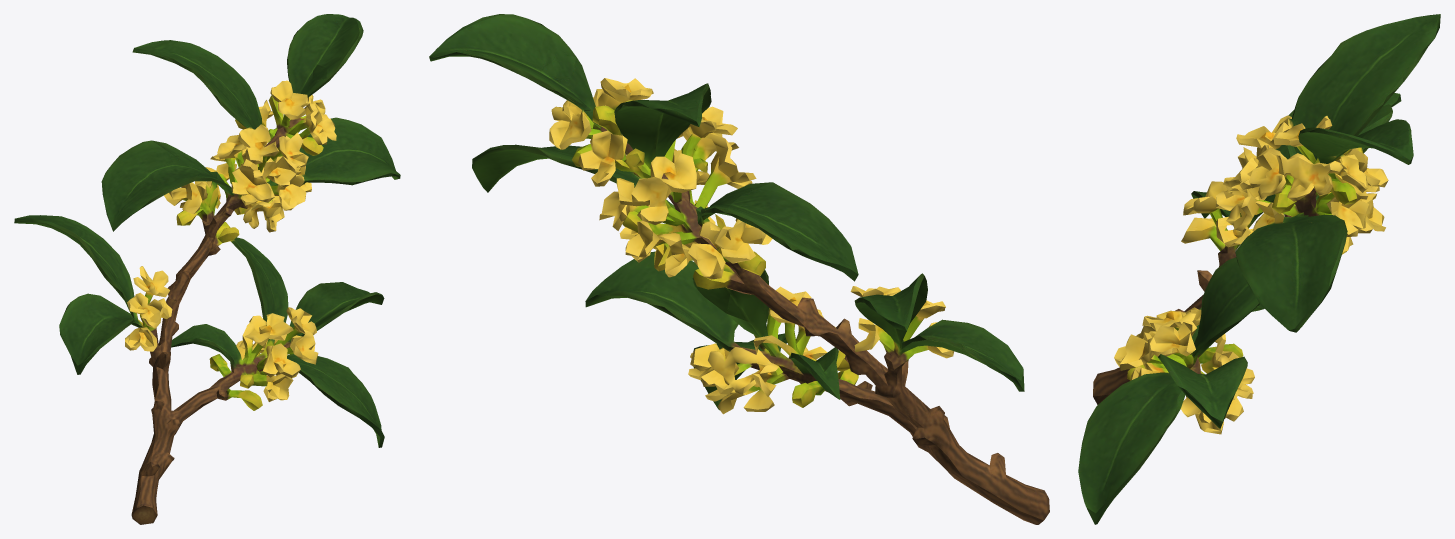
File: branch.glb
3 views of the same model, side by side, from view 1: azimuth 30°, elevation 25°; view 2: azimuth 150°, elevation 25°; view 3: azimuth 270°, elevation 25° (orthographic). The views are drawn at different scales.
Visible parts, largest first — view 1: world; view 2: world; view 3: world.
Boxes of the visible parts, x1,y1,x2,y2 form: world: (14, 14, 400, 524); world: (429, 14, 1049, 524); world: (1078, 14, 1440, 524).
Size of the model in its own units: 1.01 by 0.9668 by 0.6754.
Materials: 1 (1 with a texture image).
